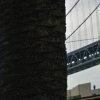Bridge: (63, 34, 100, 76)
